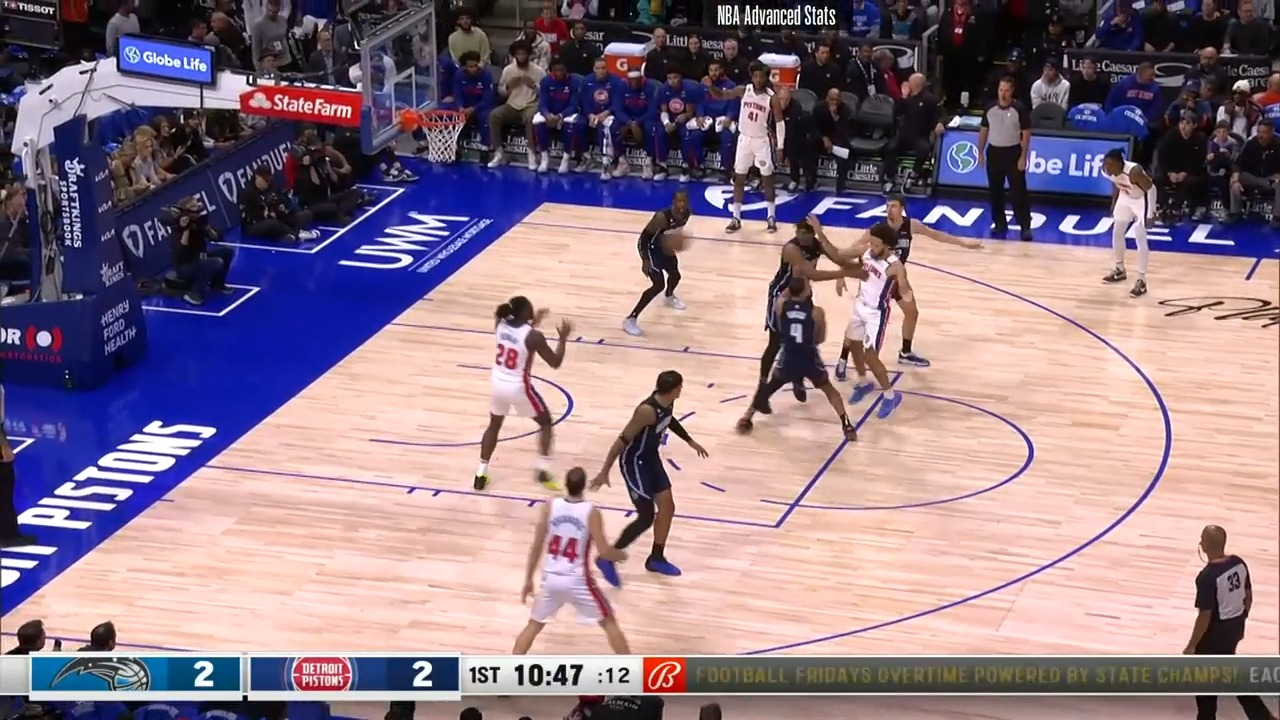net: (396, 101, 468, 165)
player: (505, 467, 636, 657), (595, 367, 704, 584), (857, 194, 986, 373), (731, 269, 855, 446), (479, 294, 582, 491), (750, 212, 847, 410), (827, 220, 907, 422), (628, 185, 707, 338), (720, 63, 788, 239), (1102, 149, 1161, 302)
referee: (1180, 524, 1255, 659), (976, 81, 1034, 252), (0, 380, 28, 557)
